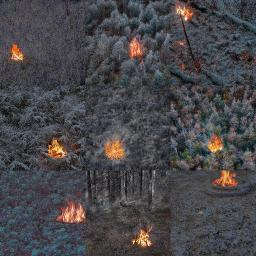Small fire: (63, 201, 87, 228), (128, 32, 145, 63), (43, 141, 69, 160), (5, 40, 26, 61), (105, 141, 131, 156), (175, 2, 190, 21), (132, 231, 148, 244)
